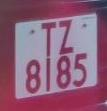1: (43, 55, 55, 96)
5: (71, 50, 91, 92)
8: (22, 55, 44, 98), (54, 53, 74, 93)
T: (39, 17, 59, 61)
Z: (56, 16, 75, 59)
